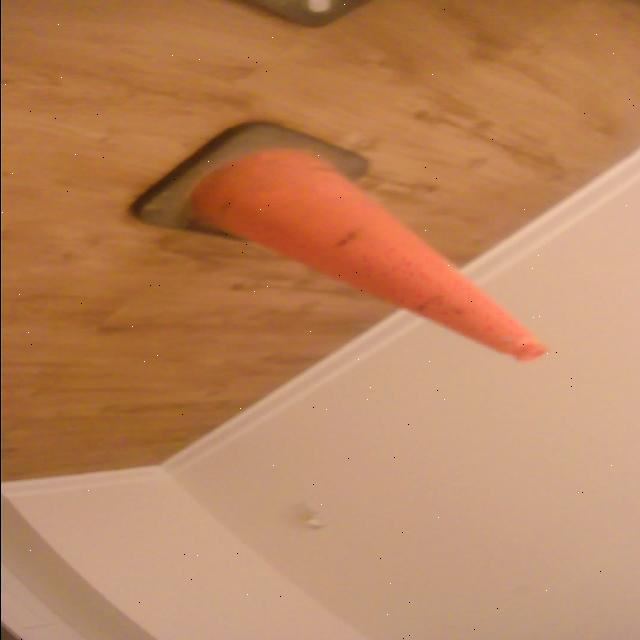traffic cone: (126, 118, 557, 368)
